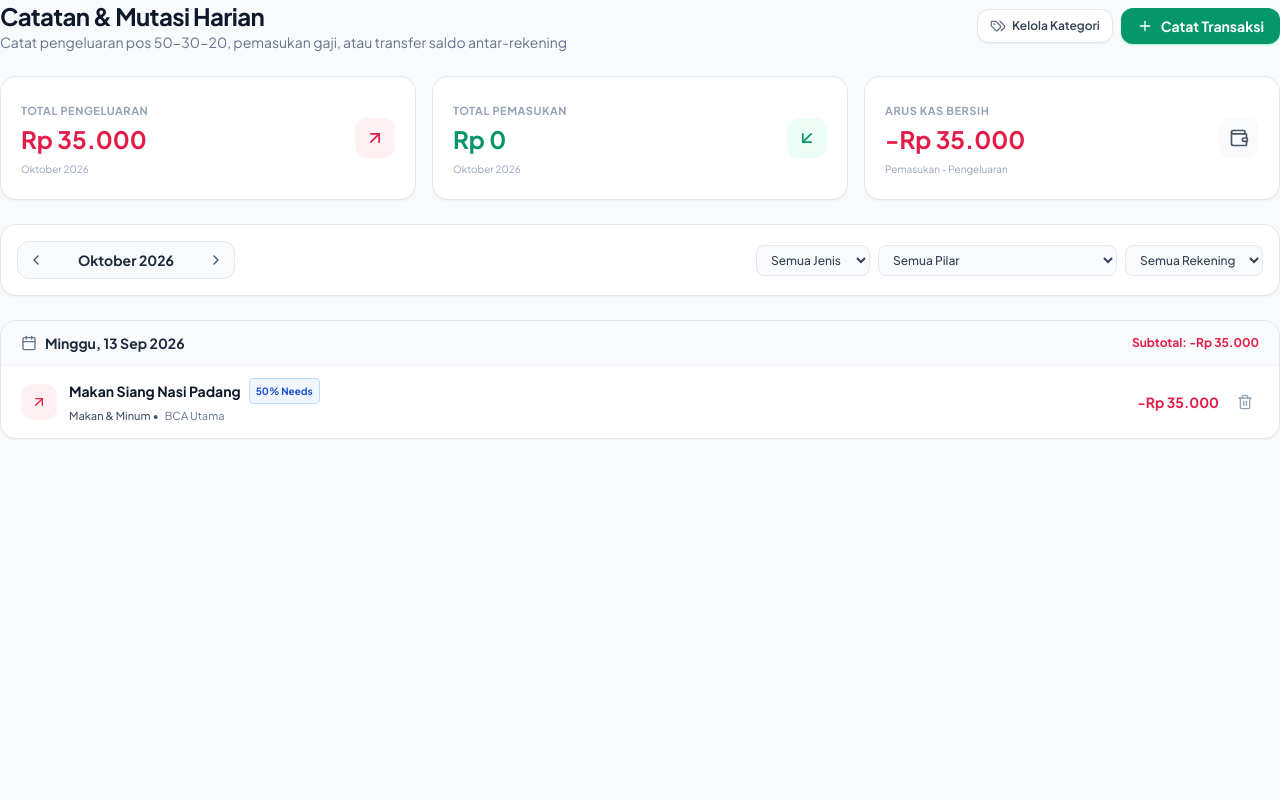
TransactionsView.vue › dapat membuka modal catat transaksi
Click the button "Catat Transaksi".
click(1200, 26)  # box top-left (1121, 8), bottom-right (1279, 44)
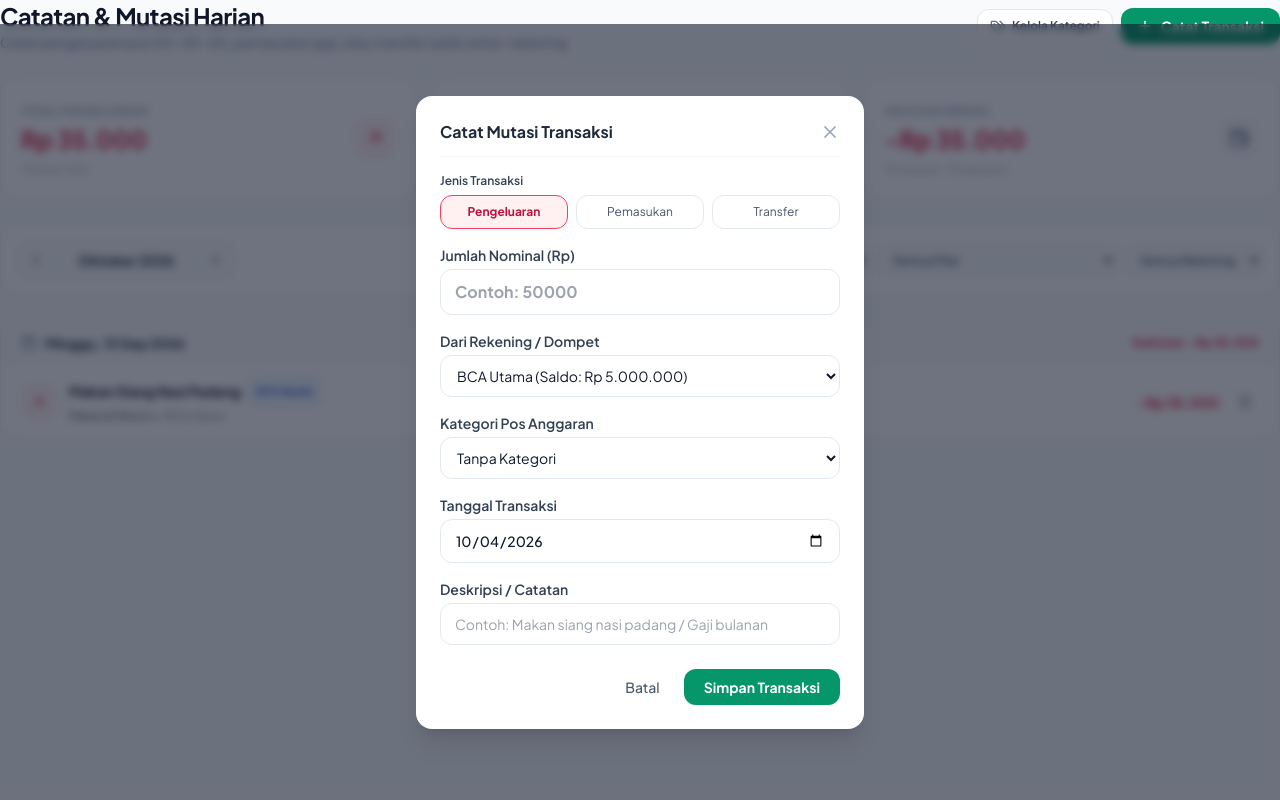
Check: the text "Catat Mutasi Transaksi" is shown, box top-left (440, 120), bottom-right (613, 144)
Check: the text "Jumlah Nominal (Rp)" is shown, box top-left (440, 246), bottom-right (575, 264)
